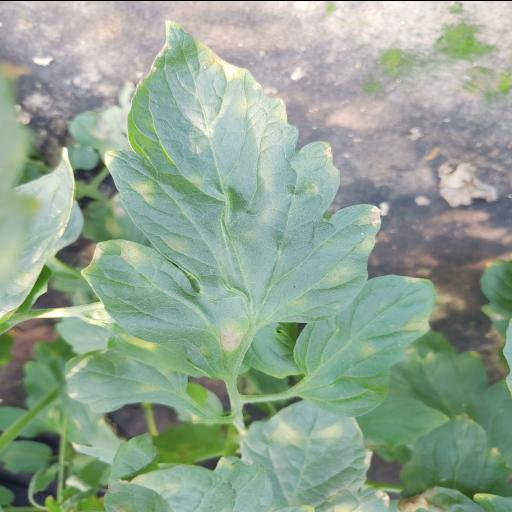Leaf Mold: (78, 18, 382, 376), (292, 274, 438, 416), (241, 398, 390, 512)
